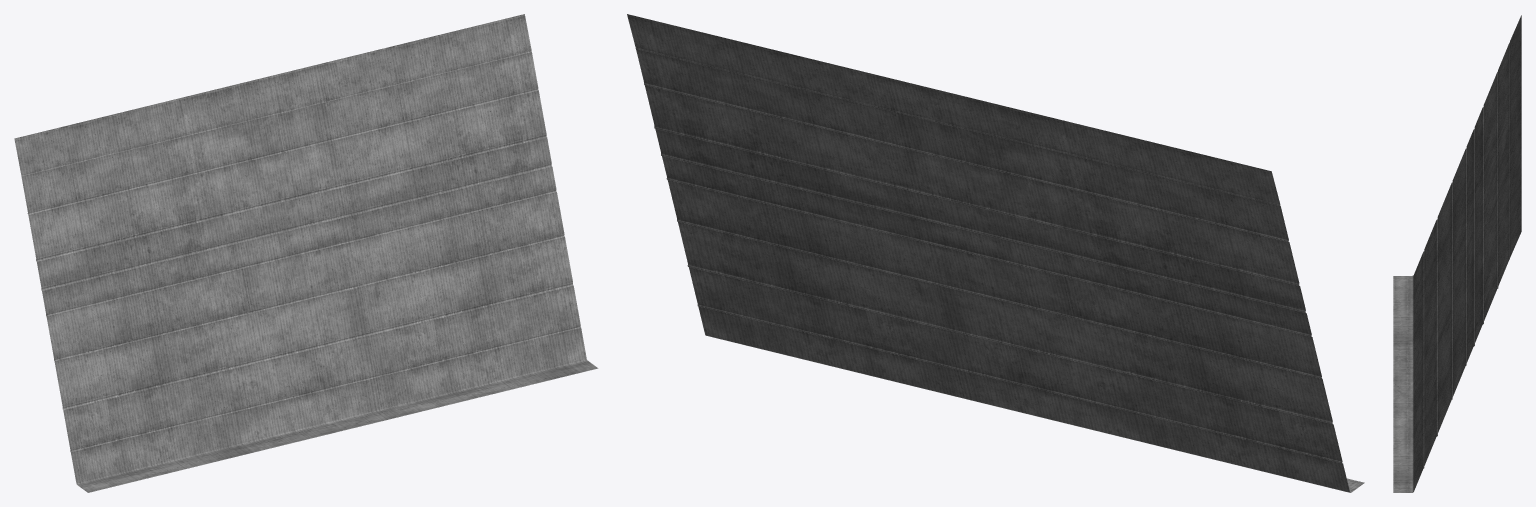
The model's file is SM_Ceiling_07.fbx.
3 views of the same model, side by side, from view 1: azimuth 30°, elevation 25°; view 2: azimuth 150°, elevation 25°; view 3: azimuth 270°, elevation 25° (orthographic). The views are drawn at different scales.
Visible parts, largest first — view 1: SM_Ceiling_07; view 2: SM_Ceiling_07; view 3: SM_Ceiling_07.
Boxes of the visible parts, <box> form: SM_Ceiling_07: <box>14,14,598,492</box>; SM_Ceiling_07: <box>627,14,1364,492</box>; SM_Ceiling_07: <box>1393,15,1521,492</box>.
Bounding box in the file's own units: 800 × 450 × 200.
